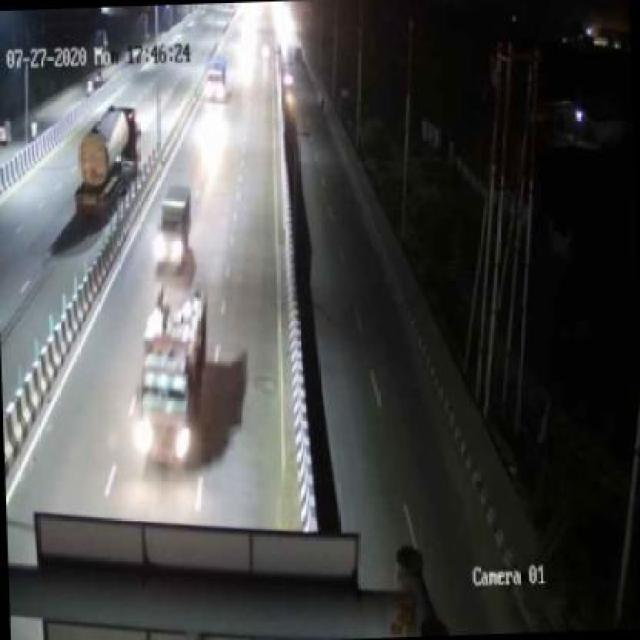car: (151, 177, 194, 275), (202, 55, 230, 103)
